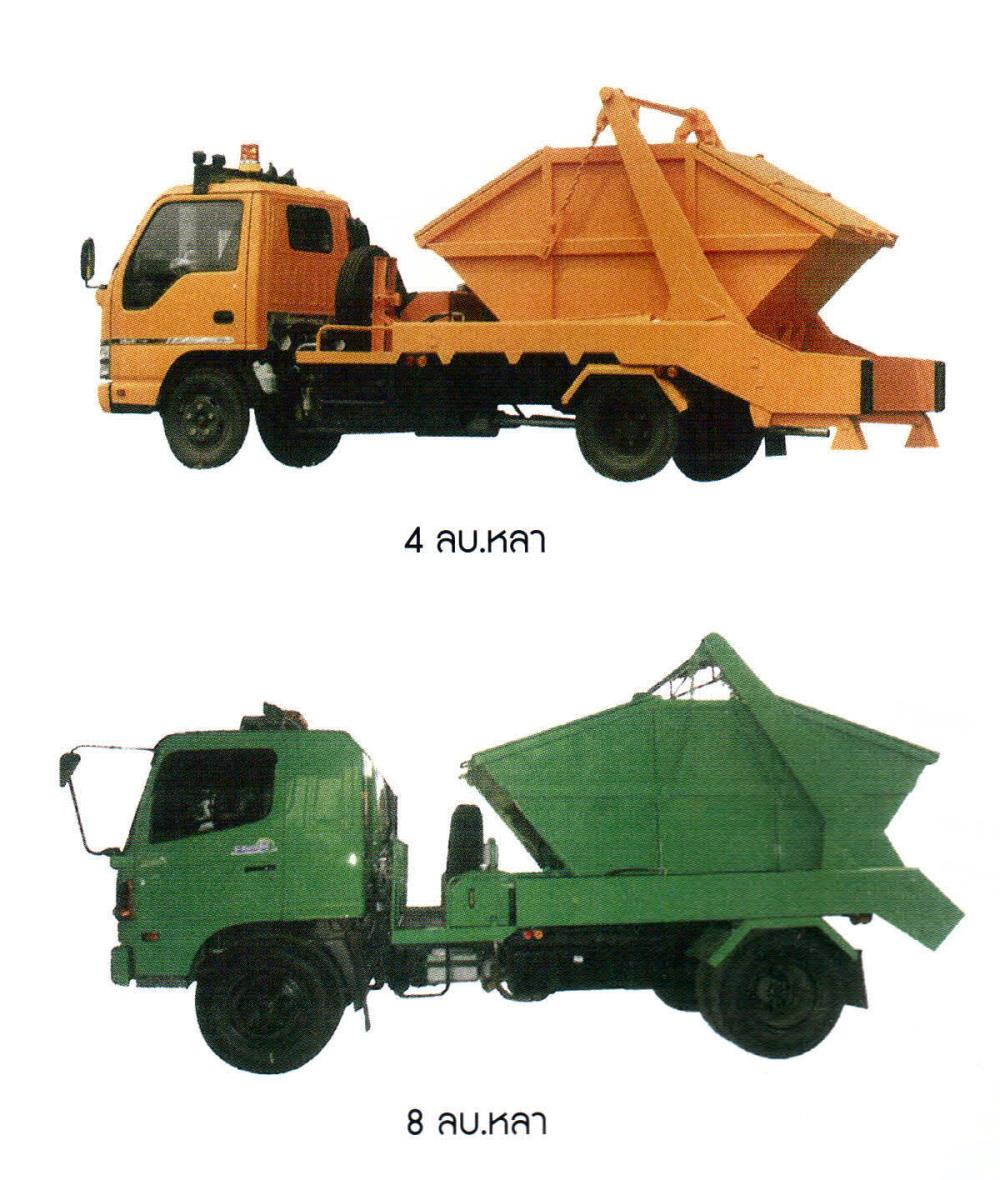truck: (54, 635, 962, 1073), (68, 78, 952, 484)
